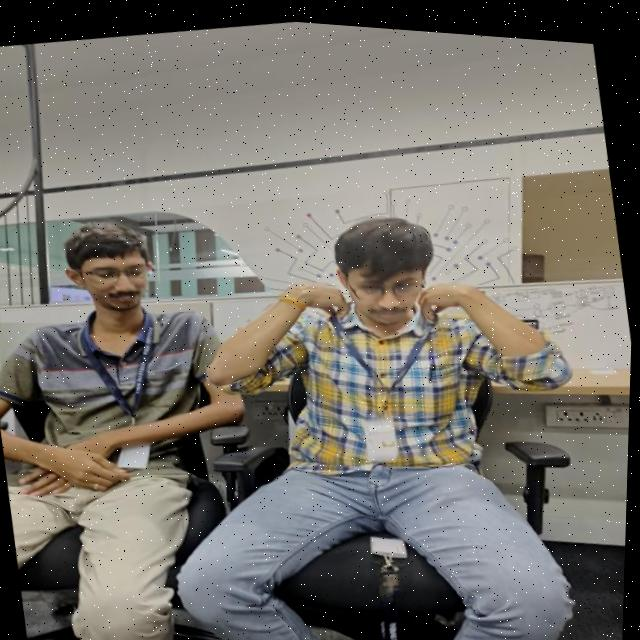id_card: (325, 280, 464, 474), (65, 295, 180, 481)
